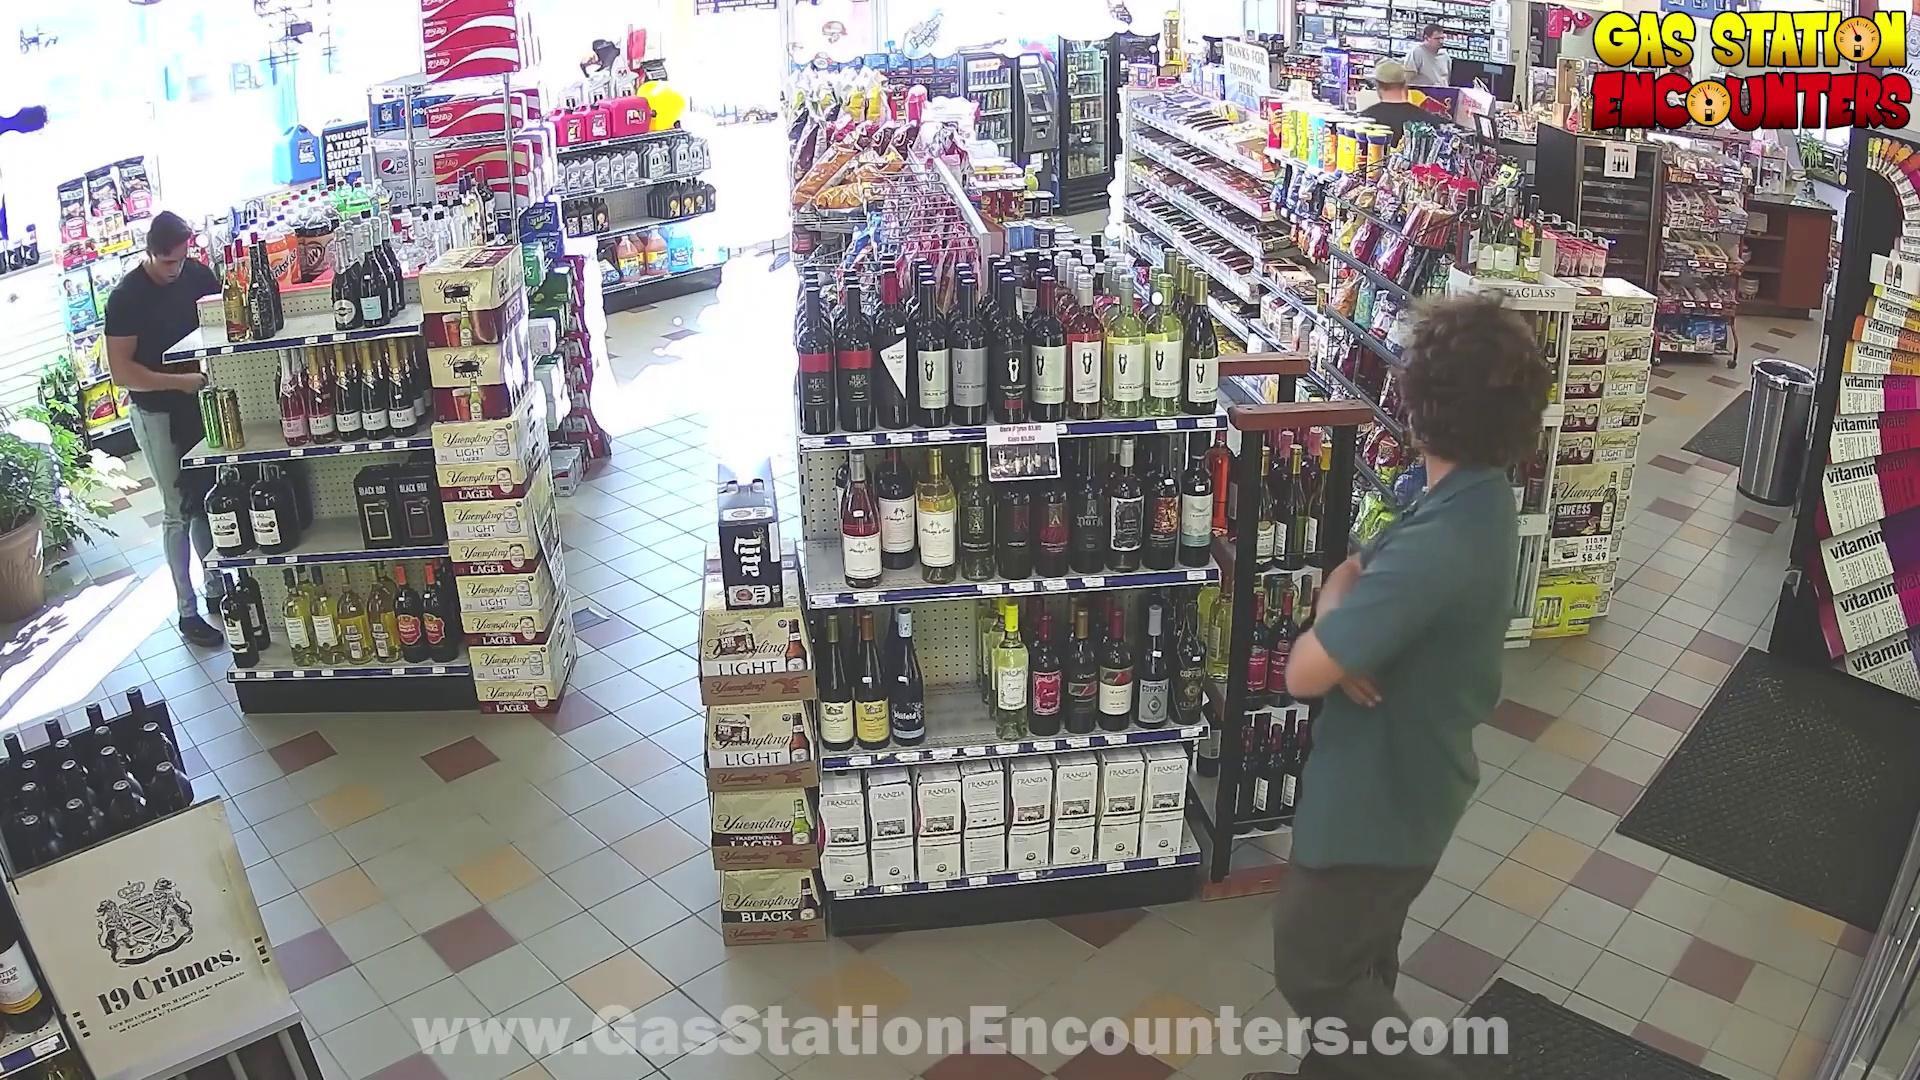3: (1176, 289, 1644, 1080), (11, 162, 255, 695), (1379, 28, 1548, 199), (1373, 25, 1469, 104)
persone: (137, 363, 218, 467)
